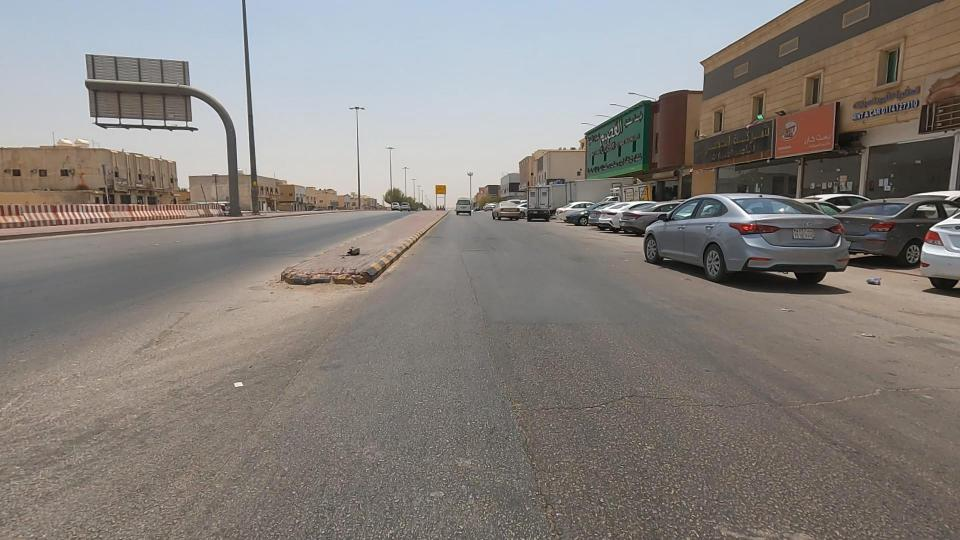BAD_BILLBOARD: (662, 110, 797, 190), (744, 86, 854, 175), (891, 65, 960, 174)
CONSTRUCTION_ROAD: (0, 180, 179, 247), (124, 184, 237, 245)
